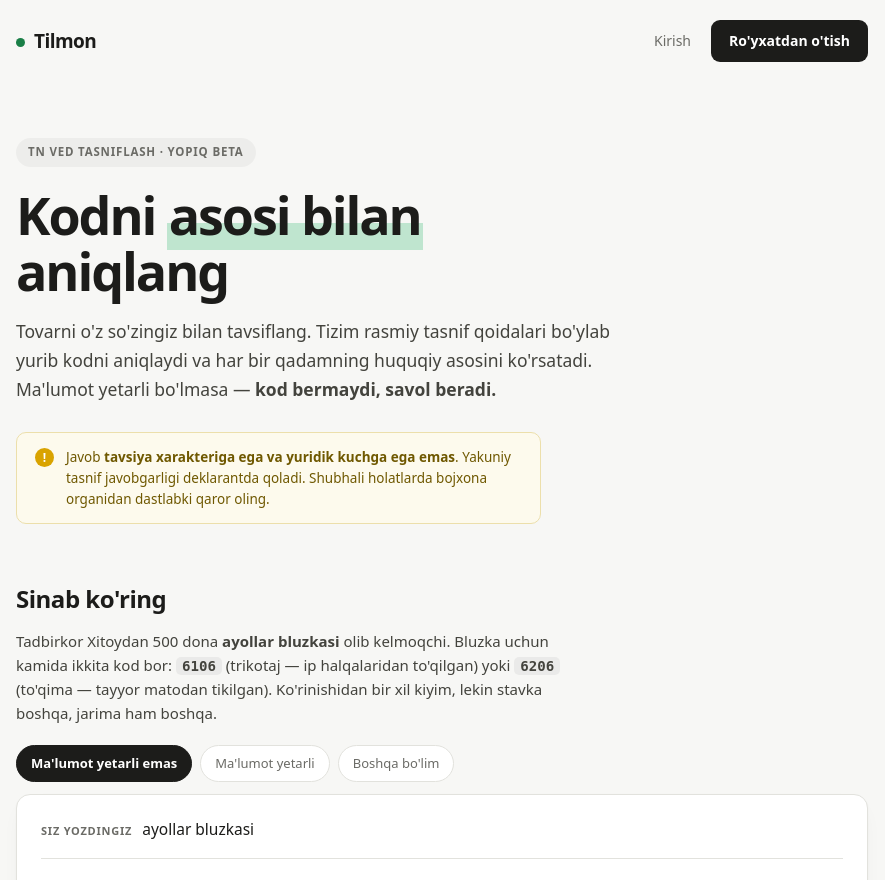
Scenario: demo — boshqarish › to'liq tavsifli misol darhol kod beradi
The image size is (885, 880).
Step 1. Click the button with test id "demo-preset" showing "Ma'lumot yetarli" → (265, 764), box [200,745,330,782]
(page scrolled)
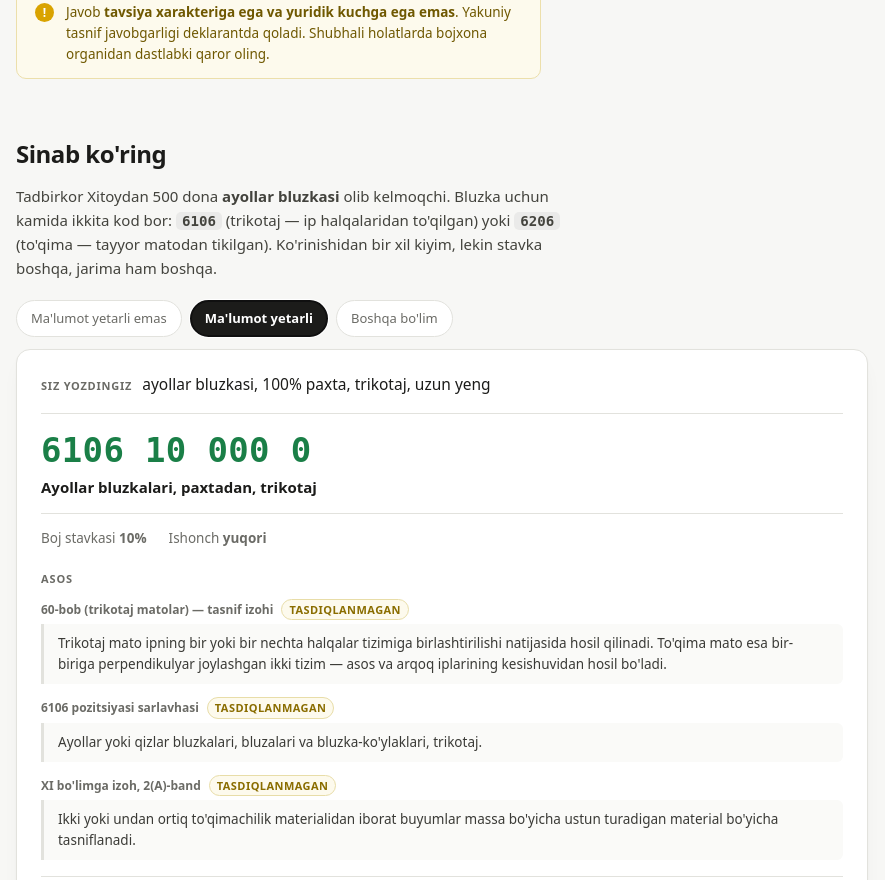
Expected: the text "6106 10 000 0" is shown, [41,430,312,470]
